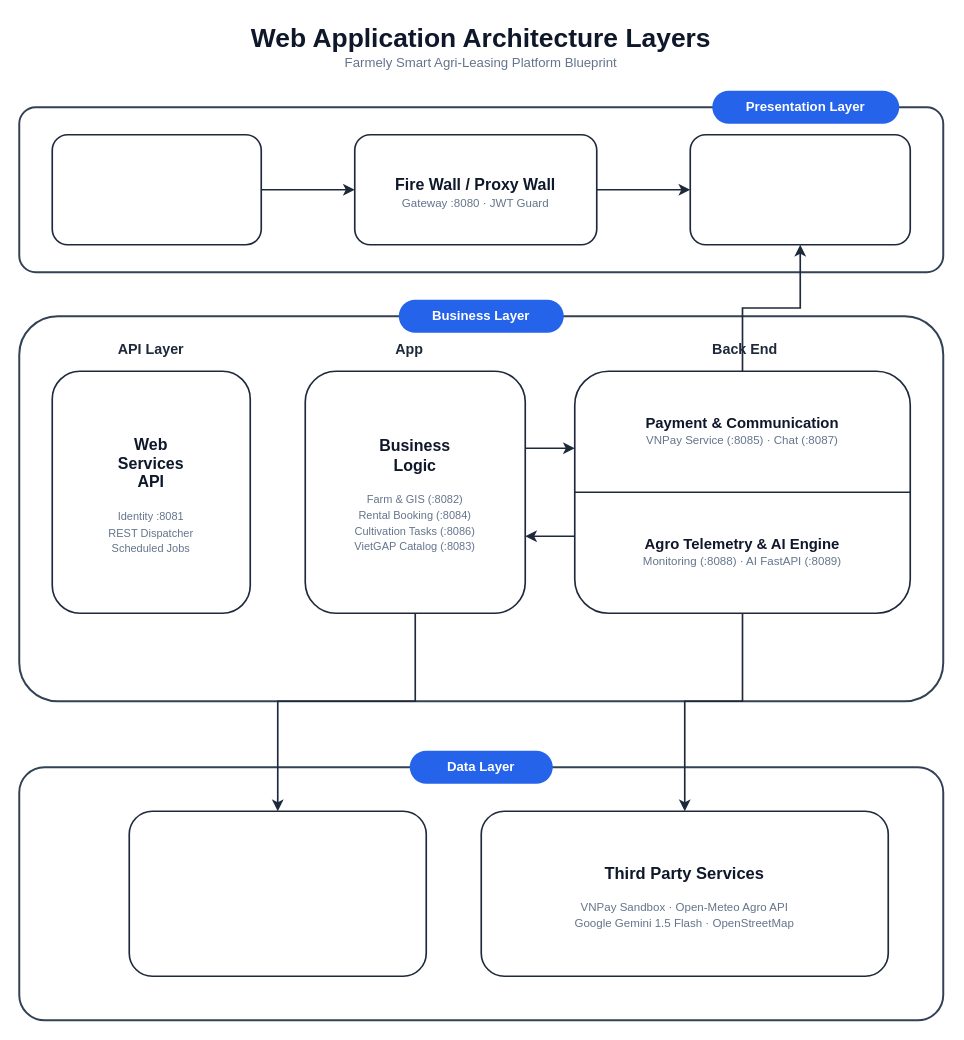
The diagram is 964 pixels wide and 1040 high, and some of its shapes have lost their labels. The centre of each missing label's shape, as x and y in pixels:
Database Services PostgreSQL 16 · Schema 24 Tables pgvector Extension (AI RAG): (x=277, y=893)
User Customer · Expert · Admin: (x=156, y=189)
Web Server React 19 SPA · Leaflet · Vite: (x=800, y=189)
